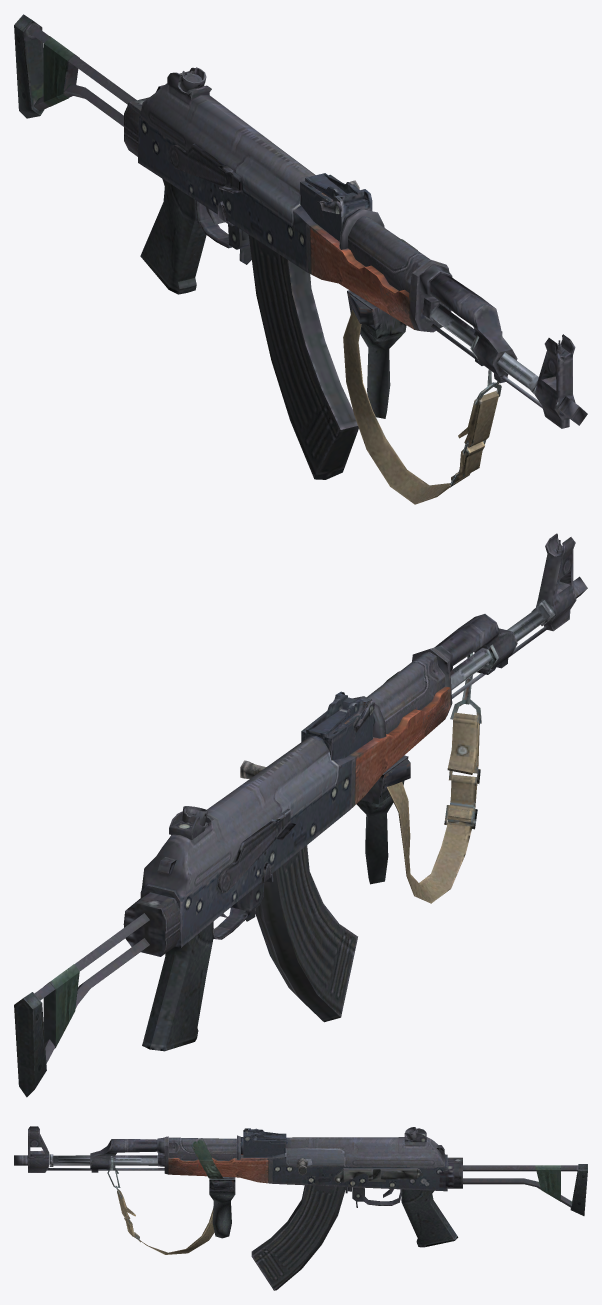
File: Assault_Rifle_bq_qs_01_Body_Main_(000595).glb
The picture shows the model from 3 angles, top to bottom: view 1: azimuth 30°, elevation 25°; view 2: azimuth 150°, elevation 25°; view 3: azimuth 270°, elevation 25°; orthographic projection. The views are drawn at different scales.
Visible parts, largest first — view 1: bq_qs_01; view 2: bq_qs_01; view 3: bq_qs_01.
Part boxes in pixels (x1=…): bq_qs_01: x1=14, y1=14, x2=587, y2=504; bq_qs_01: x1=14, y1=533, x2=587, y2=1097; bq_qs_01: x1=14, y1=1126, x2=587, y2=1290.
Bounding box in the file's own units: 0.1463 × 0.503 × 1.62.
Materials: 1 (1 with a texture image).
